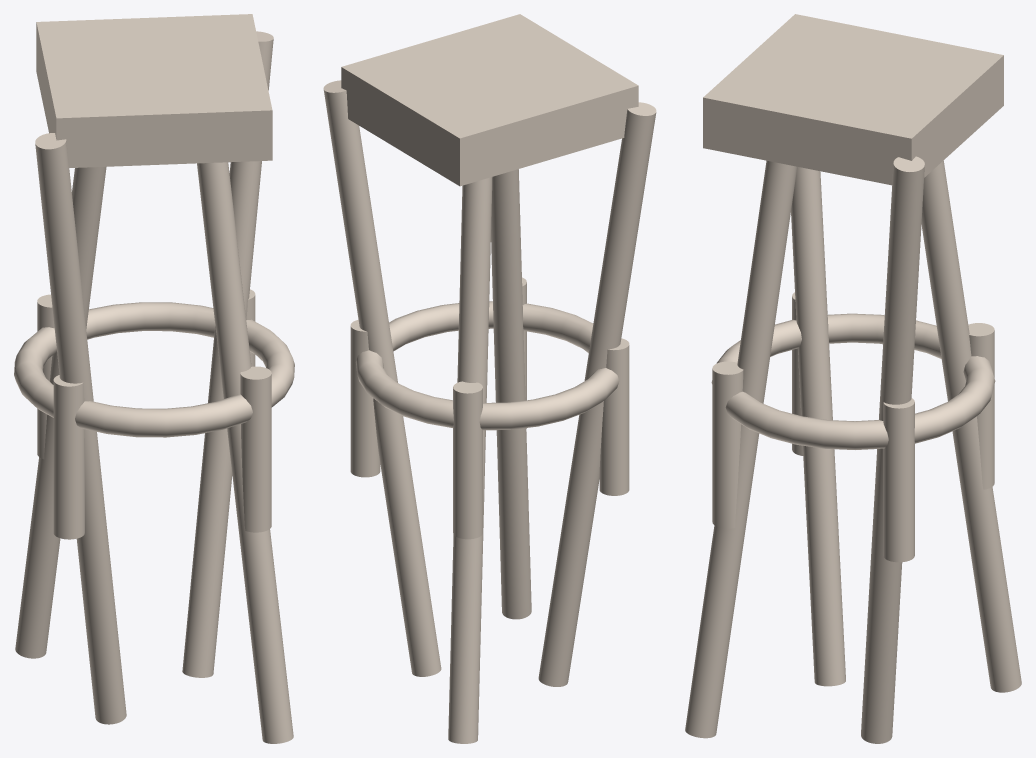
File: beso-minimalist-bar-stool.glb
3 renders of one model, left to right at view 1: azimuth 30°, elevation 25°; view 2: azimuth 150°, elevation 25°; view 3: azimuth 270°, elevation 25°, orthographic. The views are drawn at different scales.
Bounding box in the file's own units: 27.76 × 57.71 × 27.78.
